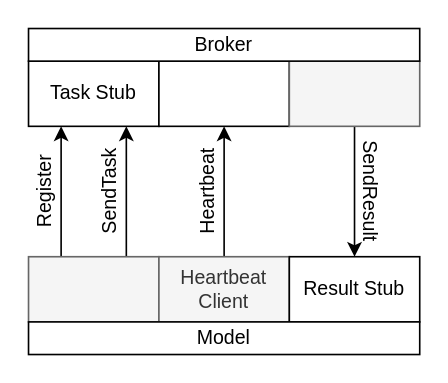
Some shapes in this 448 by 383 pixel diagram are drawn without their labels. Here are the shapes that lost their labels. From the top down, the box of each, then its label:
(157, 59, 289, 126): Heartbeat Stub
(288, 59, 420, 126): Result Client
(27, 255, 159, 322): Task Client
